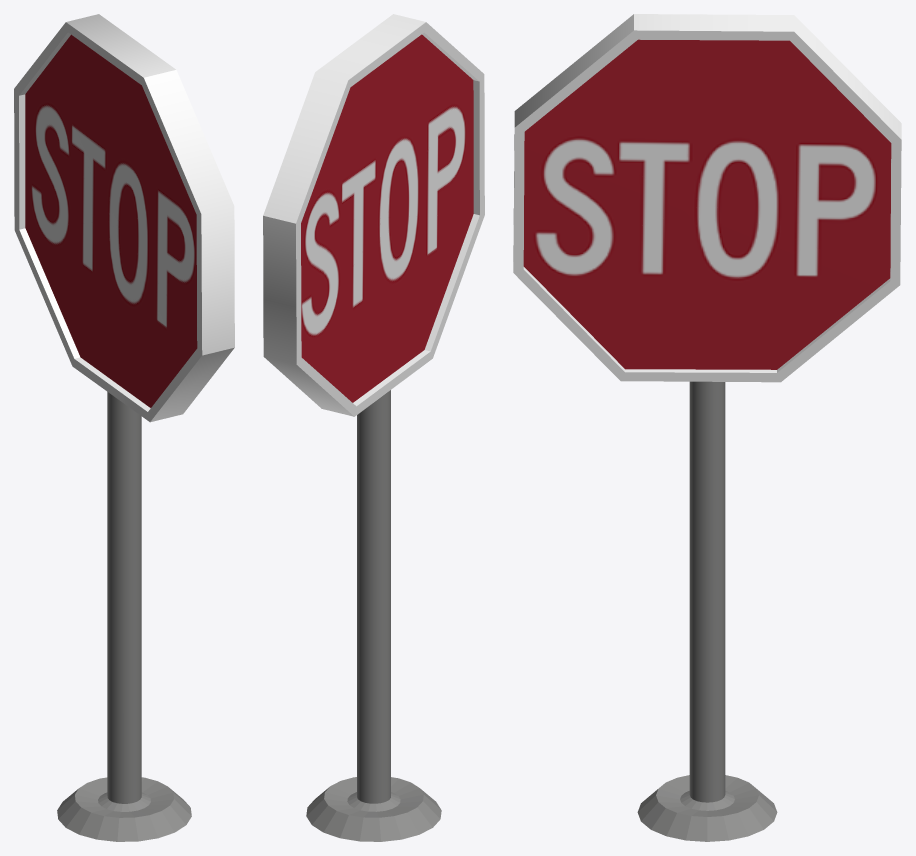
The model's file is stopSign.fbx.
3 views of the same model, side by side, from view 1: azimuth 30°, elevation 25°; view 2: azimuth 150°, elevation 25°; view 3: azimuth 270°, elevation 25° (orthographic). The views are drawn at different scales.
Parts seen in each view (by area): view 1: pCylinder2; view 2: pCylinder2; view 3: pCylinder2.
Part boxes in pixels (bbox=[...]): pCylinder2: bbox=[14, 14, 234, 841]; pCylinder2: bbox=[263, 14, 484, 841]; pCylinder2: bbox=[513, 14, 901, 841].
Bounding box in the file's own units: 0.0601 × 0.3745 × 0.1668.
